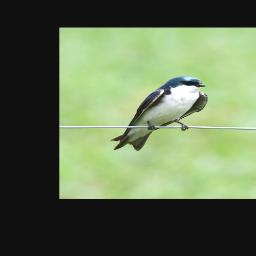Swallow: (109, 76, 208, 151)
